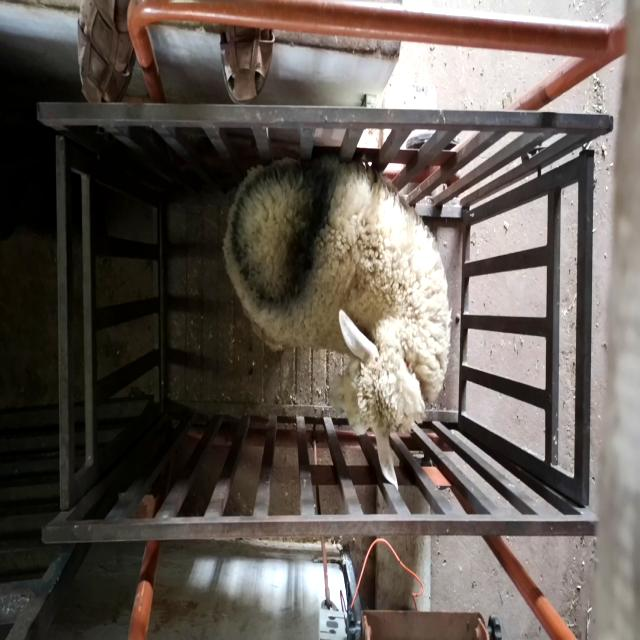sheep: (223, 154, 451, 490)
